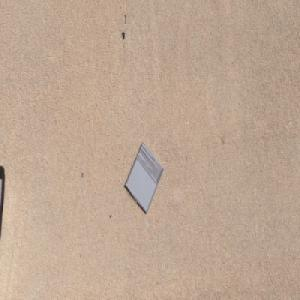PlasticPart: (124, 141, 164, 215)
